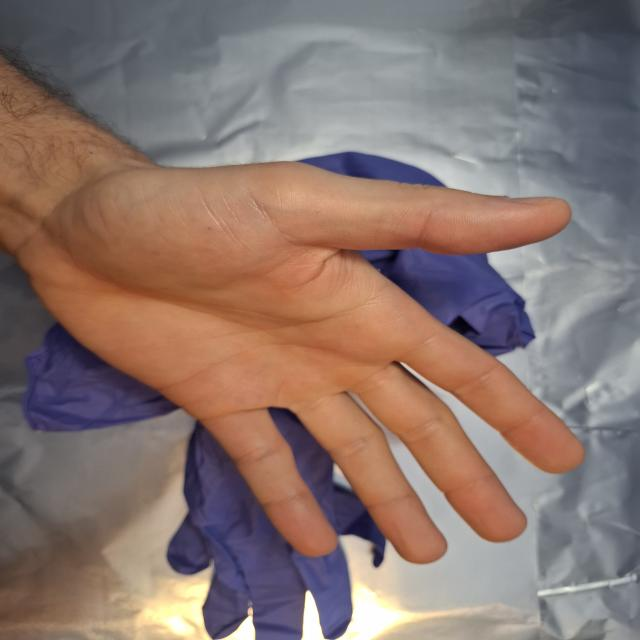glove_off: (5, 154, 587, 567)
